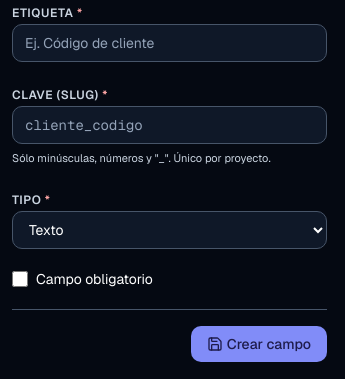
FieldDefForm › auto-deriva la key desde el label cuando el usuario no la toca
In the field labelled "Etiqueta *": (170, 43) [12,24,327,62], type "Código de Cliente"
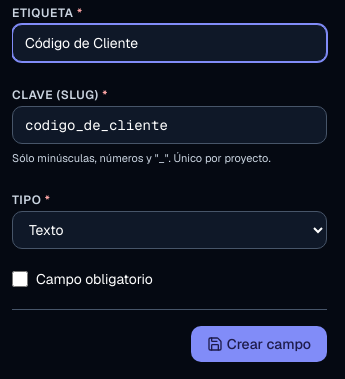
Expected: the field labelled "Clave (slug) *" holds "codigo_de_cliente", [12,106,327,144]
